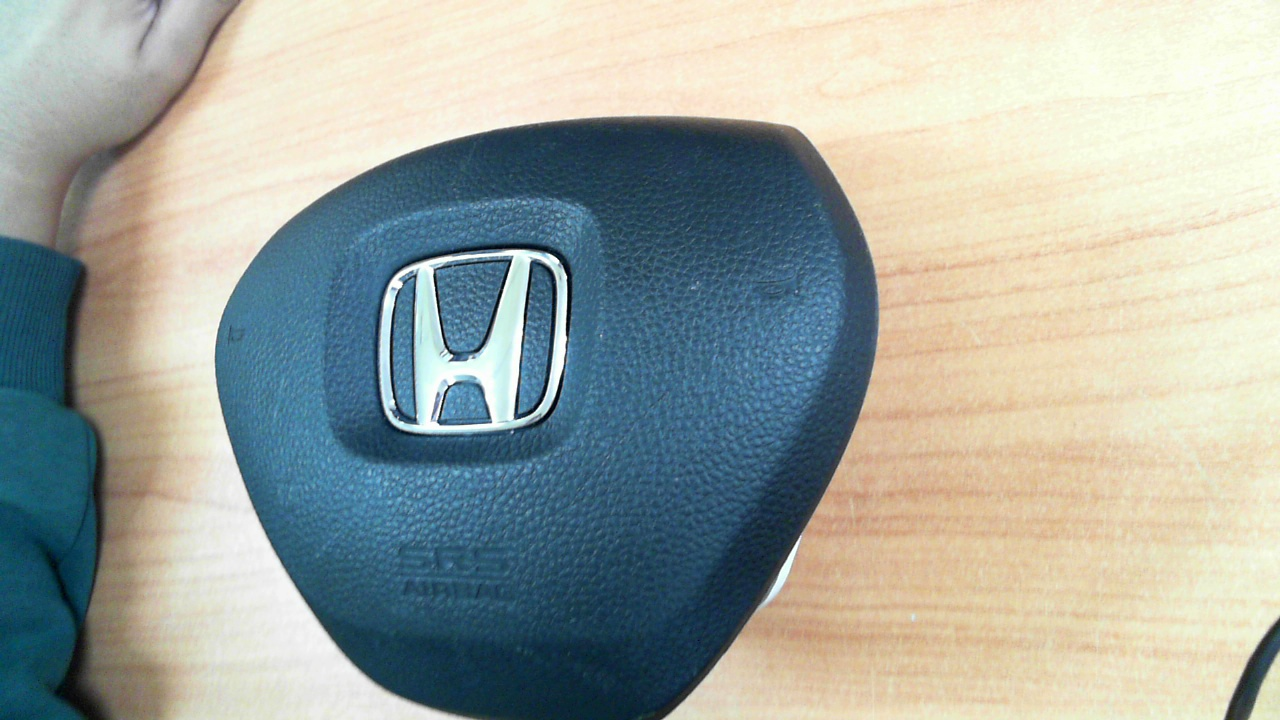Airbag: (212, 116, 882, 718)
Honda: (379, 248, 568, 435)
